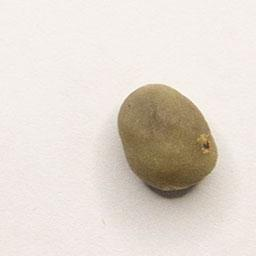peaberry: (115, 79, 222, 196)
